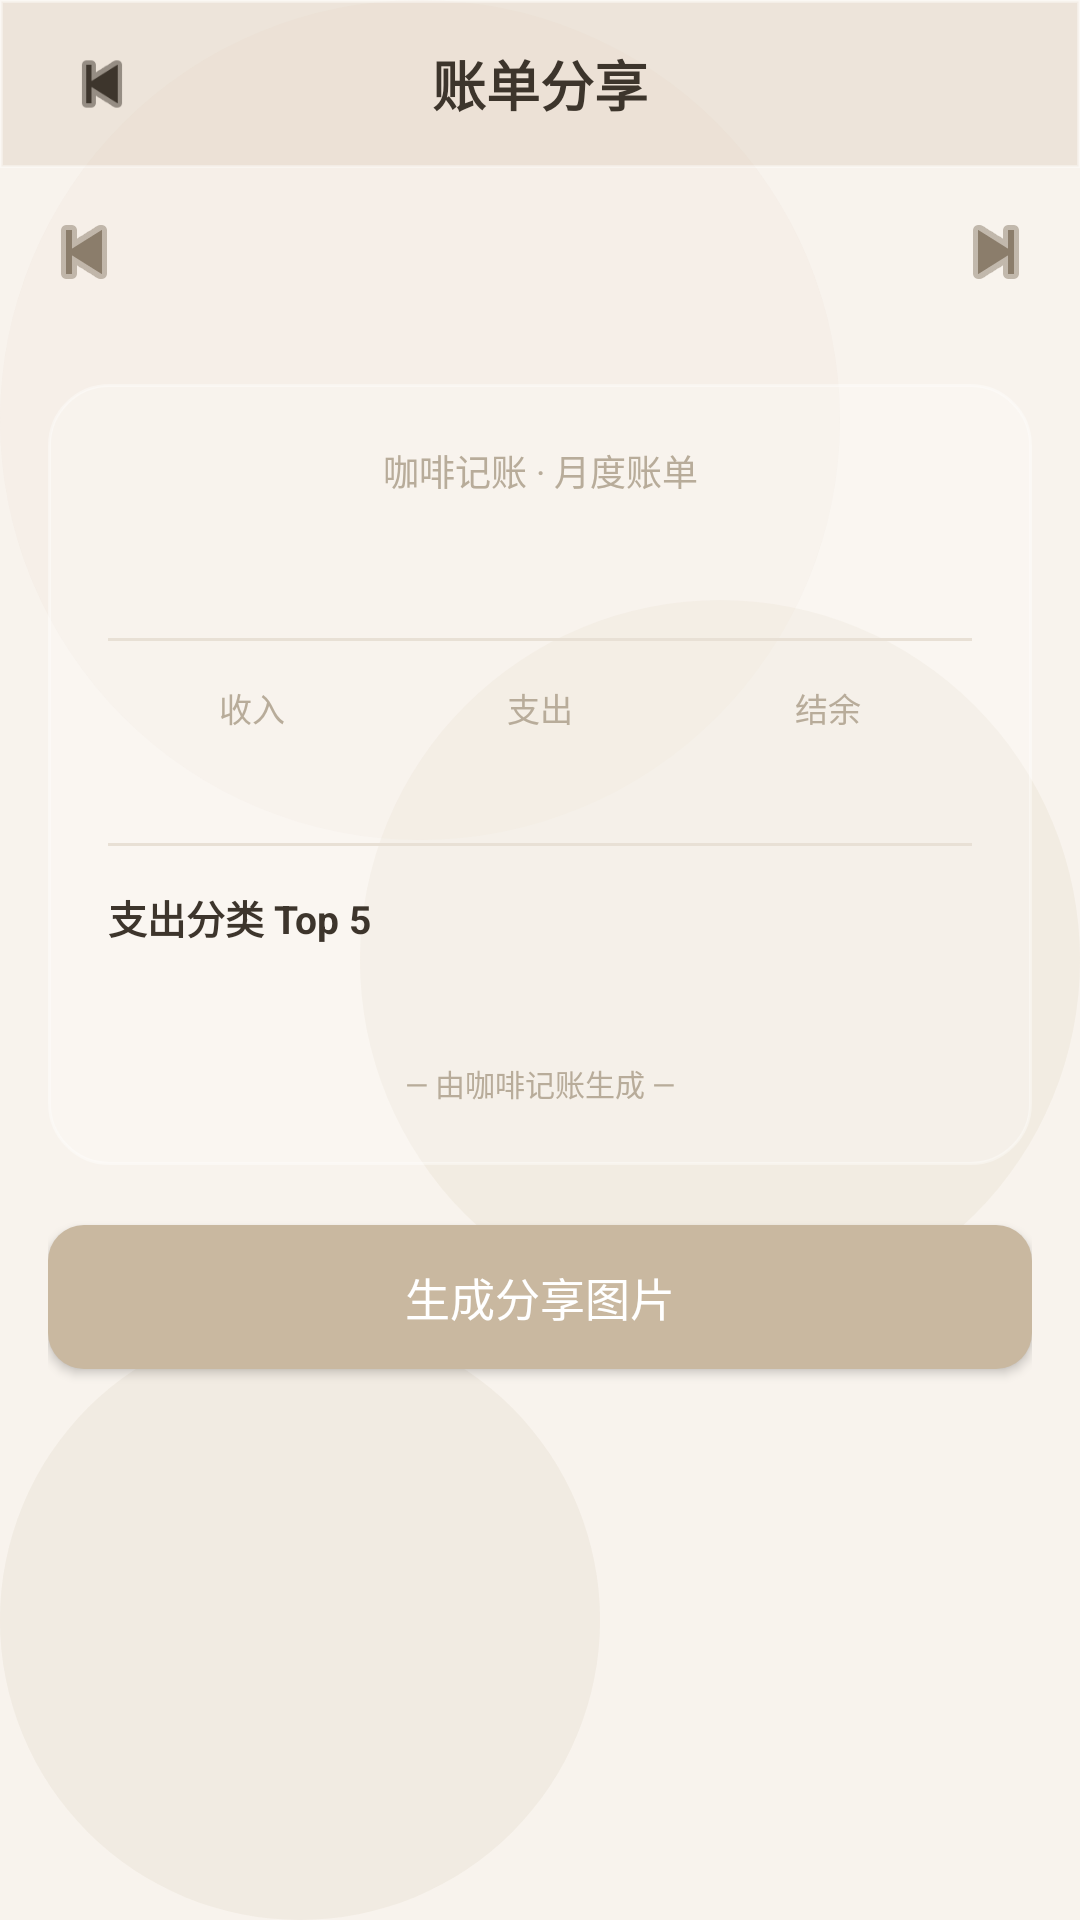

Icon click points for this 1080 x 1920 phone screenshot, format (x,y):
next: (996,252)
previous: (102,84), (84,252)
